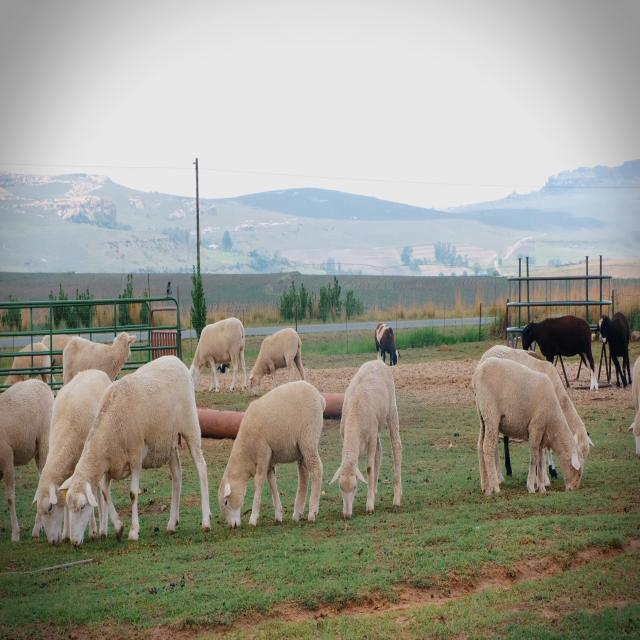sheep: (67, 335, 214, 568), (468, 346, 589, 522), (216, 362, 332, 544), (329, 347, 418, 541), (26, 384, 67, 552), (245, 321, 312, 397)
